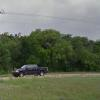Tree: (25, 18, 100, 69)
